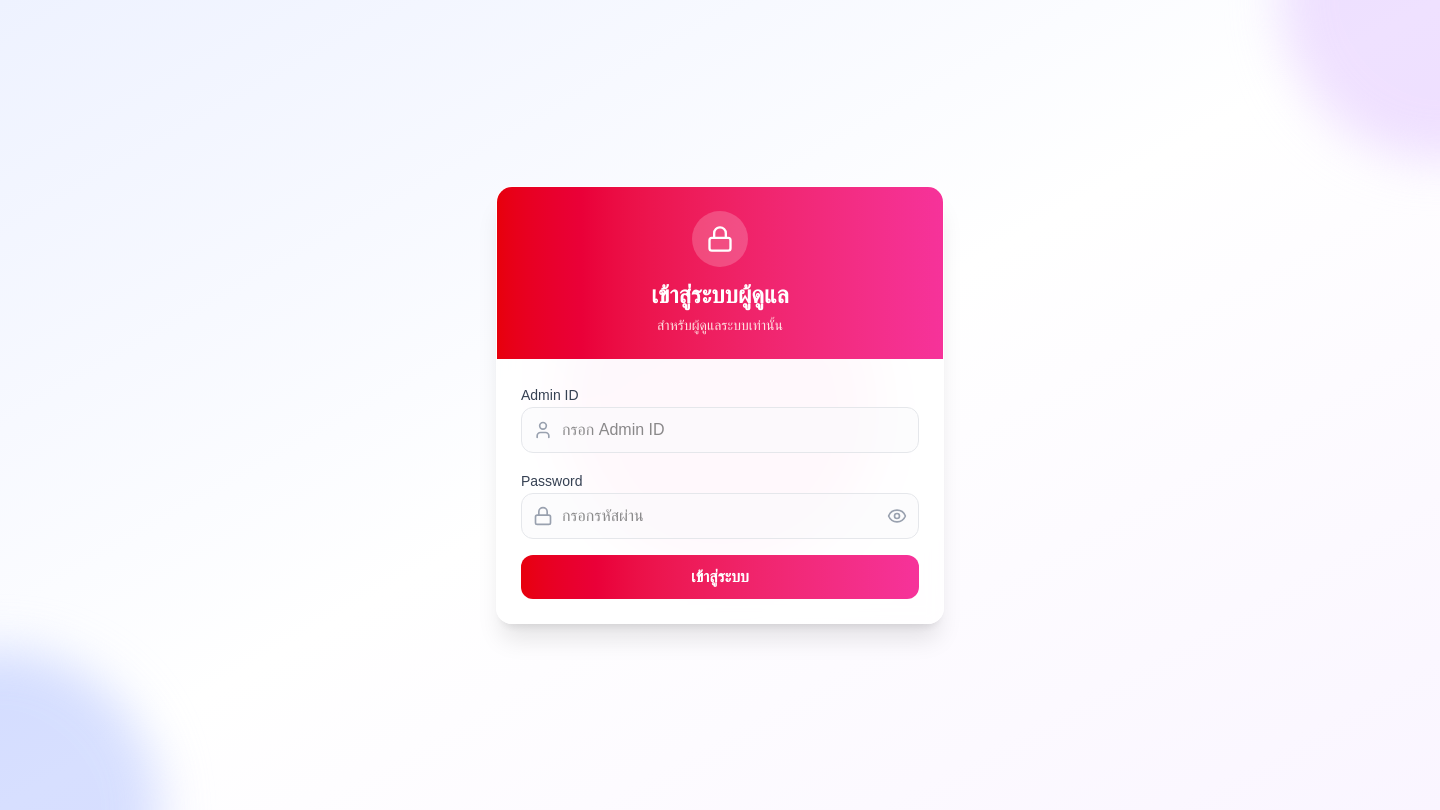
AdminLogin › ควรแสดงข้อผิดพลาดเมื่อไม่มีการกรอกข้อมูล
Click the button "เข้าสู่ระบบ": (720, 577) [521,555,919,599]
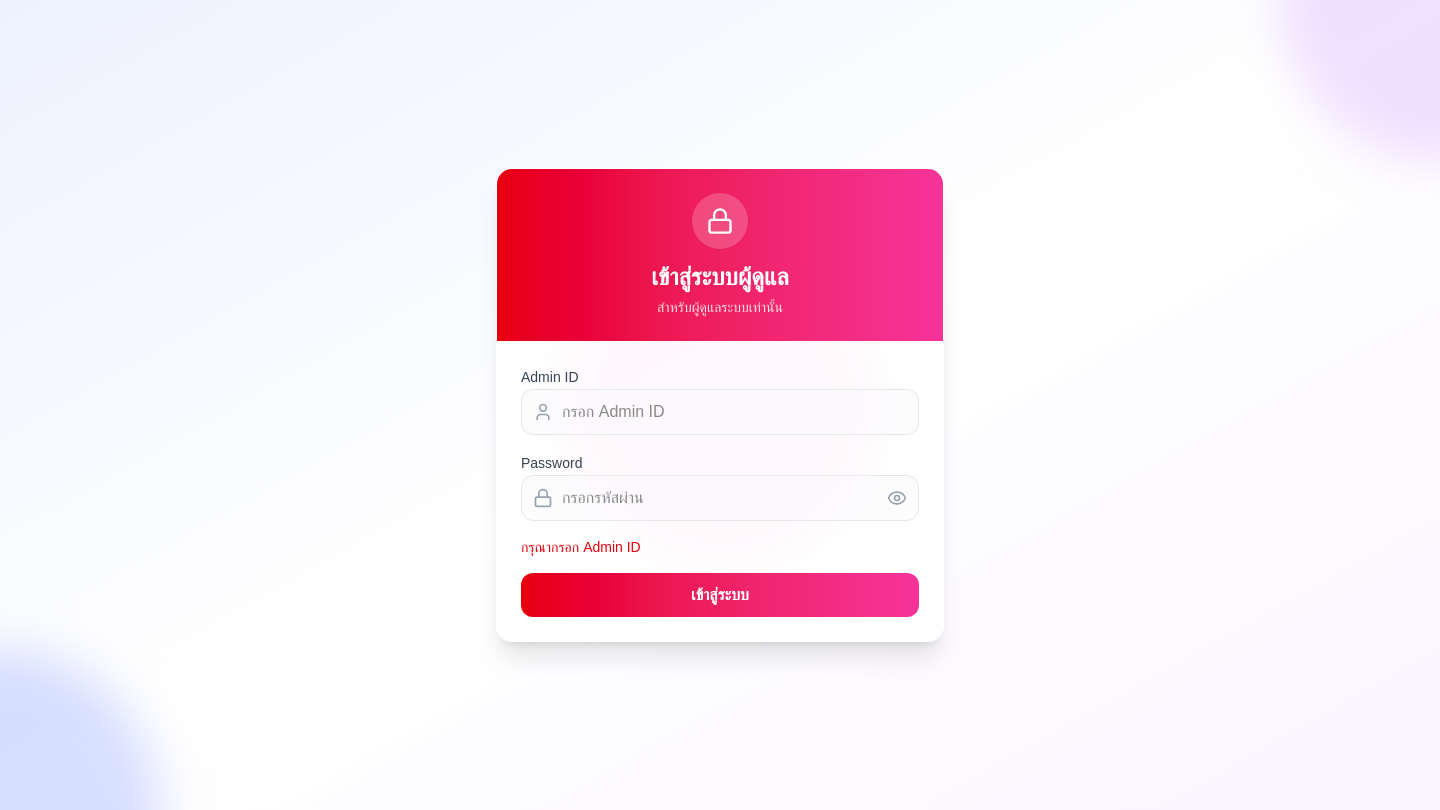
Result: the text "กรุณากรอก Admin ID" is shown at [521,539,641,555]
